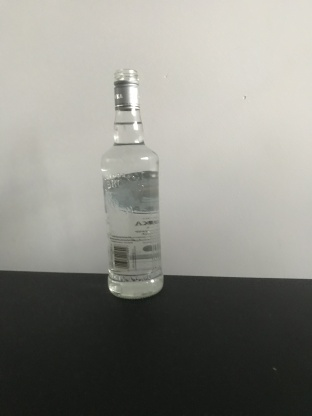nakretka: (112, 66, 142, 111)
